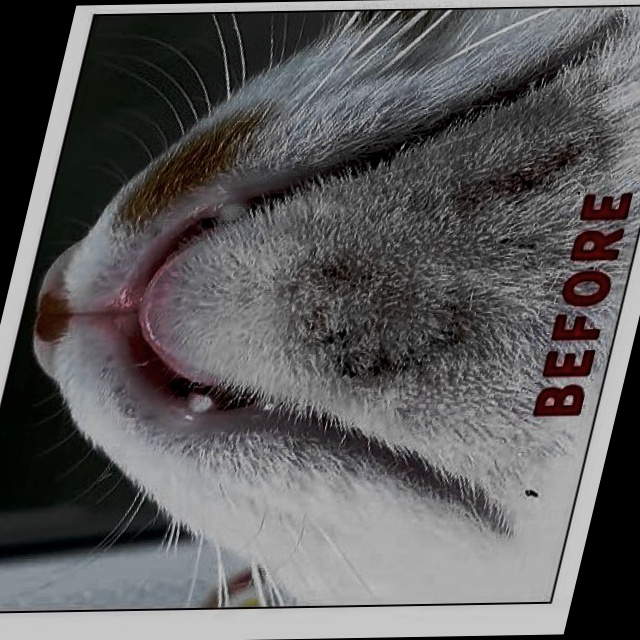acne: (277, 218, 548, 377)
